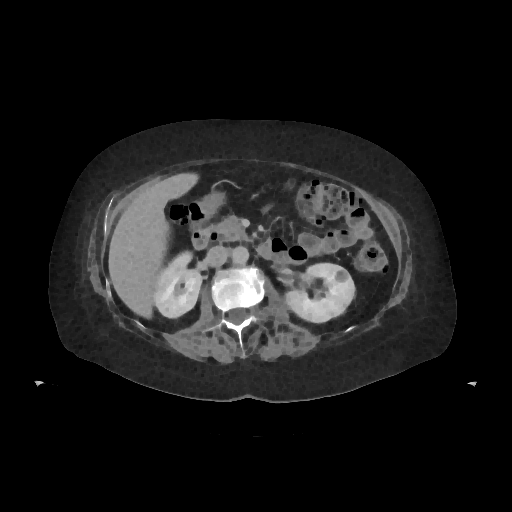Lesion: (330, 268, 351, 285)
